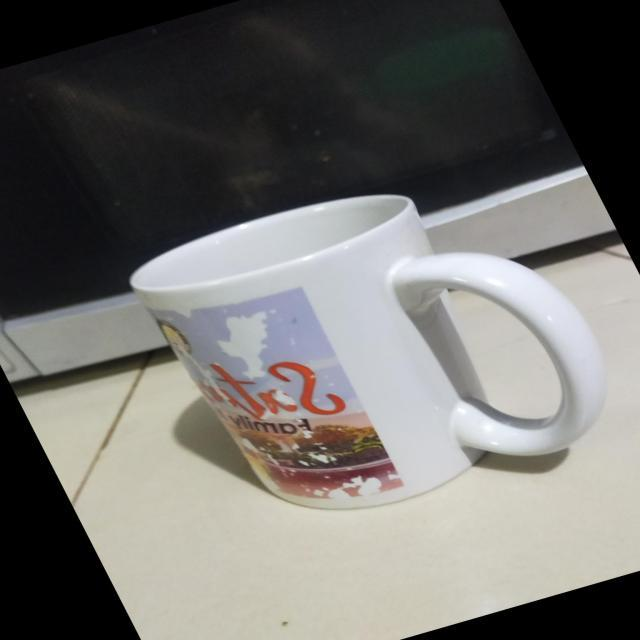taza: (131, 192, 606, 510)
